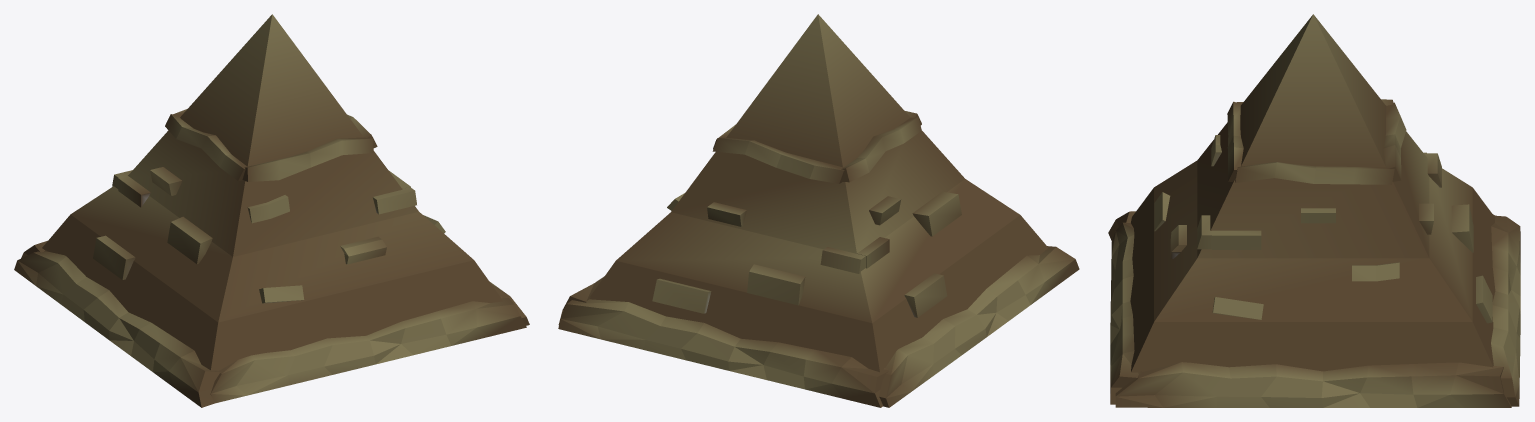
Rendered from PiramideB.fbx.
3 renders of one model, left to right at view 1: azimuth 30°, elevation 25°; view 2: azimuth 150°, elevation 25°; view 3: azimuth 270°, elevation 25°, orthographic. The views are drawn at different scales.
Parts seen in each view (by area): view 1: LOD_0; view 2: LOD_0; view 3: LOD_0.
Boxes of the visible parts, x1,y1,x2,y2 form: LOD_0: (14,14,529,407); LOD_0: (558,14,1079,407); LOD_0: (1108,14,1520,407).
Size of what is drawn, in the model's own units: 1684 by 1375 by 1677.
